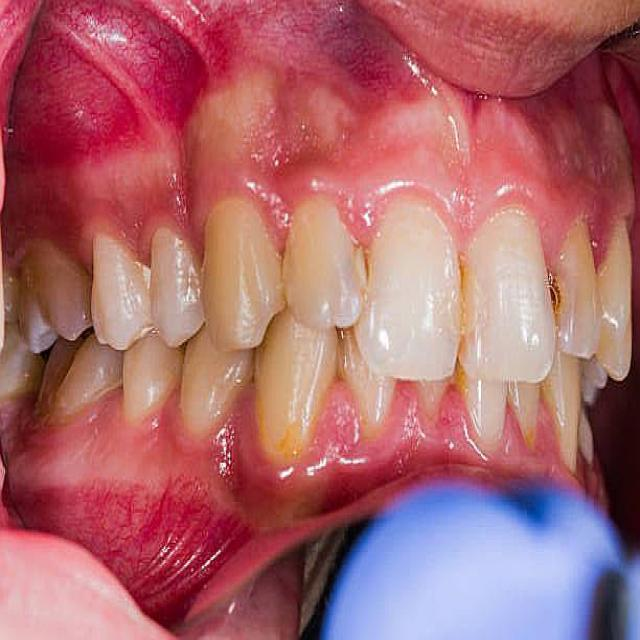caries: (349, 240, 389, 310), (536, 269, 569, 333)
